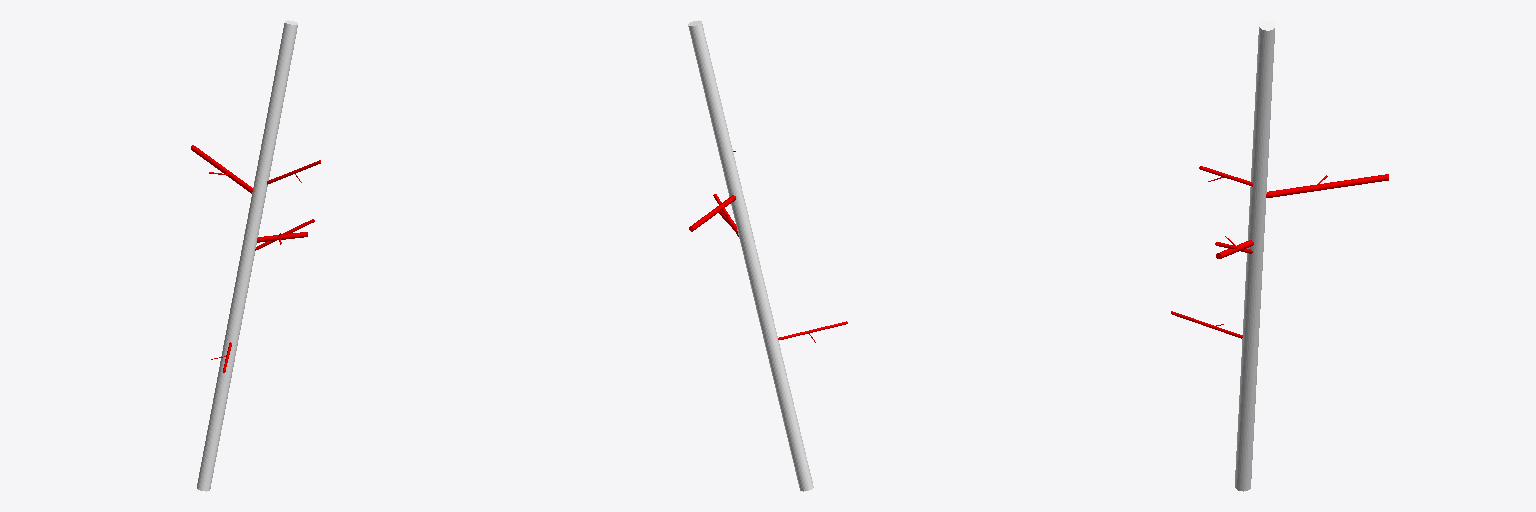
The robot description file, URDF, robot "tree_101.urdf":
<?xml version='1.0' encoding='UTF-8'?>
<robot name="tree_101.urdf">
  <link name="branch_0">
    <inertial>
      <origin xyz="0.0 0.0 0.0" rpy="0.0 -0.0 0.0"/>
      <mass value="0.1"/>
      <inertia ixx="0.001" ixy="0.0" ixz="0.0" iyy="0.001" iyz="0.0" izz="0.001"/>
    </inertial>
    <visual name="branch_0_visual">
      <geometry>
        <cylinder radius="0.16769629590940127" length="11.98573448075247"/>
      </geometry>
      <material name="branch_material"/>
      <origin xyz="1.3796275573926706 0.24846377997076835 5.826607187180207" rpy="0.0 0.2361026303457253 0.17818478331450163"/>
    </visual>
    <collision name="branch_0_collision">
      <geometry>
        <cylinder radius="0.16769629590940127" length="11.98573448075247"/>
      </geometry>
      <origin xyz="1.3796275573926706 0.24846377997076835 5.826607187180207" rpy="0.0 0.2361026303457253 0.17818478331450163"/>
    </collision>
  </link>
  <link name="branch_1">
    <inertial>
      <origin xyz="0.0 0.0 0.0" rpy="0.0 -0.0 0.0"/>
      <mass value="0.1"/>
      <inertia ixx="0.001" ixy="0.0" ixz="0.0" iyy="0.001" iyz="0.0" izz="0.001"/>
    </inertial>
    <visual name="branch_1_visual">
      <geometry>
        <cylinder radius="0.042978561293041256" length="1.8199401569680775"/>
      </geometry>
      <material name="semantic_material"/>
      <origin xyz="0.0 0.0 0.0" rpy="0.0 -0.0 0.0"/>
    </visual>
    <collision name="branch_1_collision">
      <geometry>
        <cylinder radius="0.042978561293041256" length="1.8199401569680775"/>
      </geometry>
      <origin xyz="0.0 0.0 0.0" rpy="0.0 -0.0 0.0"/>
    </collision>
  </link>
  <link name="branch_2">
    <inertial>
      <origin xyz="0.0 0.0 0.0" rpy="0.0 -0.0 0.0"/>
      <mass value="0.1"/>
      <inertia ixx="0.001" ixy="0.0" ixz="0.0" iyy="0.001" iyz="0.0" izz="0.001"/>
    </inertial>
    <visual name="branch_2_visual">
      <geometry>
        <cylinder radius="0.011638330476805668" length="0.37537349294253575"/>
      </geometry>
      <material name="semantic_material"/>
      <origin xyz="0.0 0.0 0.0" rpy="0.0 -0.0 0.0"/>
    </visual>
    <collision name="branch_2_collision">
      <geometry>
        <cylinder radius="0.011638330476805668" length="0.37537349294253575"/>
      </geometry>
      <origin xyz="0.0 0.0 0.0" rpy="0.0 -0.0 0.0"/>
    </collision>
  </link>
  <link name="branch_3">
    <inertial>
      <origin xyz="0.0 0.0 0.0" rpy="0.0 -0.0 0.0"/>
      <mass value="0.1"/>
      <inertia ixx="0.001" ixy="0.0" ixz="0.0" iyy="0.001" iyz="0.0" izz="0.001"/>
    </inertial>
    <visual name="branch_3_visual">
      <geometry>
        <cylinder radius="0.06653848859706005" length="2.6964206896225633"/>
      </geometry>
      <material name="semantic_material"/>
      <origin xyz="0.0 0.0 0.0" rpy="0.0 -0.0 0.0"/>
    </visual>
    <collision name="branch_3_collision">
      <geometry>
        <cylinder radius="0.06653848859706005" length="2.6964206896225633"/>
      </geometry>
      <origin xyz="0.0 0.0 0.0" rpy="0.0 -0.0 0.0"/>
    </collision>
  </link>
  <link name="branch_4">
    <inertial>
      <origin xyz="0.0 0.0 0.0" rpy="0.0 -0.0 0.0"/>
      <mass value="0.1"/>
      <inertia ixx="0.001" ixy="0.0" ixz="0.0" iyy="0.001" iyz="0.0" izz="0.001"/>
    </inertial>
    <visual name="branch_4_visual">
      <geometry>
        <cylinder radius="0.01859477744602877" length="0.5217858150291859"/>
      </geometry>
      <material name="semantic_material"/>
      <origin xyz="0.0 0.0 0.0" rpy="0.0 -0.0 0.0"/>
    </visual>
    <collision name="branch_4_collision">
      <geometry>
        <cylinder radius="0.01859477744602877" length="0.5217858150291859"/>
      </geometry>
      <origin xyz="0.0 0.0 0.0" rpy="0.0 -0.0 0.0"/>
    </collision>
  </link>
  <link name="branch_5">
    <inertial>
      <origin xyz="0.0 0.0 0.0" rpy="0.0 -0.0 0.0"/>
      <mass value="0.1"/>
      <inertia ixx="0.001" ixy="0.0" ixz="0.0" iyy="0.001" iyz="0.0" izz="0.001"/>
    </inertial>
    <visual name="branch_5_visual">
      <geometry>
        <cylinder radius="0.06581626352055542" length="1.4132968720240684"/>
      </geometry>
      <material name="semantic_material"/>
      <origin xyz="0.0 0.0 0.0" rpy="0.0 -0.0 0.0"/>
    </visual>
    <collision name="branch_5_collision">
      <geometry>
        <cylinder radius="0.06581626352055542" length="1.4132968720240684"/>
      </geometry>
      <origin xyz="0.0 0.0 0.0" rpy="0.0 -0.0 0.0"/>
    </collision>
  </link>
  <link name="branch_6">
    <inertial>
      <origin xyz="0.0 0.0 0.0" rpy="0.0 -0.0 0.0"/>
      <mass value="0.1"/>
      <inertia ixx="0.001" ixy="0.0" ixz="0.0" iyy="0.001" iyz="0.0" izz="0.001"/>
    </inertial>
    <visual name="branch_6_visual">
      <geometry>
        <cylinder radius="0.023774823506528795" length="0.1820129635226492"/>
      </geometry>
      <material name="semantic_material"/>
      <origin xyz="0.0 0.0 0.0" rpy="0.0 -0.0 0.0"/>
    </visual>
    <collision name="branch_6_collision">
      <geometry>
        <cylinder radius="0.023774823506528795" length="0.1820129635226492"/>
      </geometry>
      <origin xyz="0.0 0.0 0.0" rpy="0.0 -0.0 0.0"/>
    </collision>
  </link>
  <link name="branch_7">
    <inertial>
      <origin xyz="0.0 0.0 0.0" rpy="0.0 -0.0 0.0"/>
      <mass value="0.1"/>
      <inertia ixx="0.001" ixy="0.0" ixz="0.0" iyy="0.001" iyz="0.0" izz="0.001"/>
    </inertial>
    <visual name="branch_7_visual">
      <geometry>
        <cylinder radius="0.04154476766308264" length="1.7780960067554634"/>
      </geometry>
      <material name="semantic_material"/>
      <origin xyz="0.0 0.0 0.0" rpy="0.0 -0.0 0.0"/>
    </visual>
    <collision name="branch_7_collision">
      <geometry>
        <cylinder radius="0.04154476766308264" length="1.7780960067554634"/>
      </geometry>
      <origin xyz="0.0 0.0 0.0" rpy="0.0 -0.0 0.0"/>
    </collision>
  </link>
  <link name="branch_8">
    <inertial>
      <origin xyz="0.0 0.0 0.0" rpy="0.0 -0.0 0.0"/>
      <mass value="0.1"/>
      <inertia ixx="0.001" ixy="0.0" ixz="0.0" iyy="0.001" iyz="0.0" izz="0.001"/>
    </inertial>
    <visual name="branch_8_visual">
      <geometry>
        <cylinder radius="0.010906663887603378" length="0.39128175890442324"/>
      </geometry>
      <material name="semantic_material"/>
      <origin xyz="0.0 0.0 0.0" rpy="0.0 -0.0 0.0"/>
    </visual>
    <collision name="branch_8_collision">
      <geometry>
        <cylinder radius="0.010906663887603378" length="0.39128175890442324"/>
      </geometry>
      <origin xyz="0.0 0.0 0.0" rpy="0.0 -0.0 0.0"/>
    </collision>
  </link>
  <link name="branch_9">
    <inertial>
      <origin xyz="0.0 0.0 0.0" rpy="0.0 -0.0 0.0"/>
      <mass value="0.1"/>
      <inertia ixx="0.001" ixy="0.0" ixz="0.0" iyy="0.001" iyz="0.0" izz="0.001"/>
    </inertial>
    <visual name="branch_9_visual">
      <geometry>
        <cylinder radius="0.034505258097991306" length="1.973772358777507"/>
      </geometry>
      <material name="semantic_material"/>
      <origin xyz="0.0 0.0 0.0" rpy="0.0 -0.0 0.0"/>
    </visual>
    <collision name="branch_9_collision">
      <geometry>
        <cylinder radius="0.034505258097991306" length="1.973772358777507"/>
      </geometry>
      <origin xyz="0.0 0.0 0.0" rpy="0.0 -0.0 0.0"/>
    </collision>
  </link>
  <link name="branch_10">
    <inertial>
      <origin xyz="0.0 0.0 0.0" rpy="0.0 -0.0 0.0"/>
      <mass value="0.1"/>
      <inertia ixx="0.001" ixy="0.0" ixz="0.0" iyy="0.001" iyz="0.0" izz="0.001"/>
    </inertial>
    <visual name="branch_10_visual">
      <geometry>
        <cylinder radius="0.01" length="0.41231823114574845"/>
      </geometry>
      <material name="semantic_material"/>
      <origin xyz="0.0 0.0 0.0" rpy="0.0 -0.0 0.0"/>
    </visual>
    <collision name="branch_10_collision">
      <geometry>
        <cylinder radius="0.01" length="0.41231823114574845"/>
      </geometry>
      <origin xyz="0.0 0.0 0.0" rpy="0.0 -0.0 0.0"/>
    </collision>
  </link>
  <joint name="joint_0_1" type="fixed">
    <parent link="branch_0"/>
    <child link="branch_1"/>
    <axis xyz="1. 0. 0."/>
    <origin xyz="2.102731103068883 -0.13603050684269505 6.337847276658023" rpy="-0.33861570584043543 1.0493001856606694 -0.8900199870900134"/>
  </joint>
  <joint name="joint_0_3" type="fixed">
    <parent link="branch_0"/>
    <child link="branch_3"/>
    <axis xyz="1. 0. 0."/>
    <origin xyz="1.5782832955904027 1.6440567488300681 7.475866186059993" rpy="1.1470275994947565 1.3114279464360152 2.8486990612180927"/>
  </joint>
  <joint name="joint_0_5" type="fixed">
    <parent link="branch_0"/>
    <child link="branch_5"/>
    <axis xyz="1. 0. 0."/>
    <origin xyz="2.0575812689505 -0.11366682100421574 6.30793493563662" rpy="-0.855538003378138 1.3492340916148782 -1.4394062041447582"/>
  </joint>
  <joint name="joint_0_7" type="fixed">
    <parent link="branch_0"/>
    <child link="branch_7"/>
    <axis xyz="1. 0. 0."/>
    <origin xyz="2.2917434540024364 -0.26810700991401526 8.02649255470271" rpy="-0.41224630624703623 0.9982938014363365 -1.3530522524422242"/>
  </joint>
  <joint name="joint_0_9" type="fixed">
    <parent link="branch_0"/>
    <child link="branch_9"/>
    <axis xyz="1. 0. 0."/>
    <origin xyz="0.3071544925263824 -0.6474182461181578 3.7432083123874036" rpy="-1.312855465947957 1.3990952206222405 2.7807433595246285"/>
  </joint>
  <joint name="joint_1_2" type="fixed">
    <parent link="branch_0"/>
    <child link="branch_2"/>
    <axis xyz="1. 0. 0."/>
    <origin xyz="1.9932815311228456 -0.21967555922353352 6.413104296933188" rpy="-0.7975681397367754 0.10307017311329043 3.102252713509169"/>
  </joint>
  <joint name="joint_3_4" type="fixed">
    <parent link="branch_0"/>
    <child link="branch_4"/>
    <axis xyz="1. 0. 0."/>
    <origin xyz="1.377681346084955 1.579492858077653 7.486477671497971" rpy="1.4499182674105007 0.04069802031859486 -2.1033830527490487"/>
  </joint>
  <joint name="joint_5_6" type="fixed">
    <parent link="branch_0"/>
    <child link="branch_6"/>
    <axis xyz="1. 0. 0."/>
    <origin xyz="2.047742660686005 -0.19034303002527864 6.2555269368255235" rpy="-2.228508719722151 0.24162091935666719 2.694575671824367"/>
  </joint>
  <joint name="joint_7_8" type="fixed">
    <parent link="branch_0"/>
    <child link="branch_8"/>
    <axis xyz="1. 0. 0."/>
    <origin xyz="2.3477956678625445 -0.5191504682058922 8.010305001688026" rpy="-2.090415699938958 0.8225038113815177 2.744546036347321"/>
  </joint>
  <joint name="joint_9_10" type="fixed">
    <parent link="branch_0"/>
    <child link="branch_10"/>
    <axis xyz="1. 0. 0."/>
    <origin xyz="0.1595948413590126 -0.5103420095362523 3.690653251151742" rpy="-1.8215464025521926 0.049011595945067814 0.9767499996798139"/>
  </joint>
  <material name="branch_material">
    <color rgba="1. 1. 1. 1."/>
  </material>
  <material name="semantic_material">
    <color rgba="1. 0. 0. 1."/>
  </material>
</robot>

--- What the picture shows (computed from the rendered views, not written in the file) ---
Views: 3 orthographic renders of the robot side by side, from view 1: azimuth 30°, elevation 25°; view 2: azimuth 150°, elevation 25°; view 3: azimuth 270°, elevation 25°.
Model tree_101.urdf with 11 links and 10 joints (10 fixed), rooted at branch_0, posed every joint at zero.
Visible links, largest first — view 1: branch_0; view 2: branch_0; view 3: branch_0, branch_3.
Link boxes in pixels (x1=…): branch_0: x1=197, y1=20, x2=297, y2=491; branch_0: x1=688, y1=20, x2=813, y2=491; branch_0: x1=1235, y1=20, x2=1274, y2=491; branch_3: x1=1266, y1=174, x2=1388, y2=197.
Bounding box of the posed robot: 3.21 × 4.46 × 11.73 m (x, y, z).
Geometry: primitives only (box / cylinder / sphere), no mesh files.
